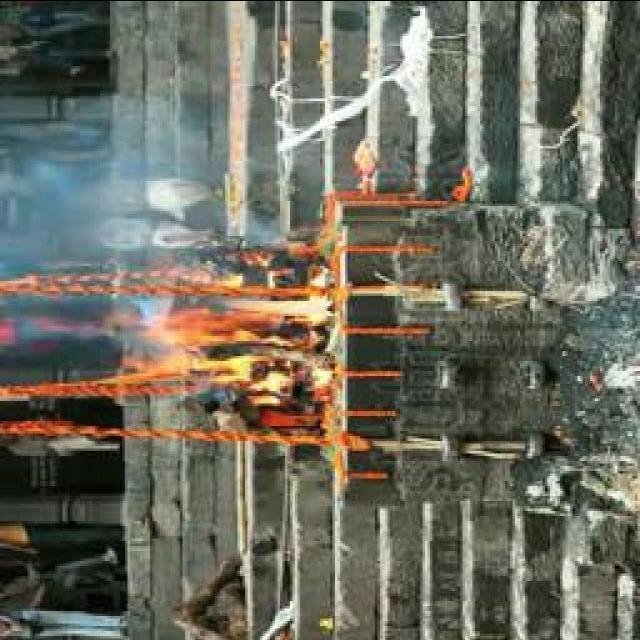Fire: (103, 292, 340, 385)
